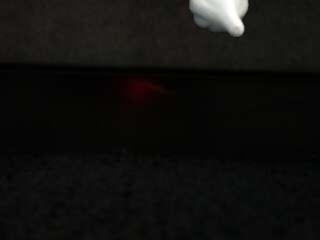Garlic: (188, 0, 251, 36)
